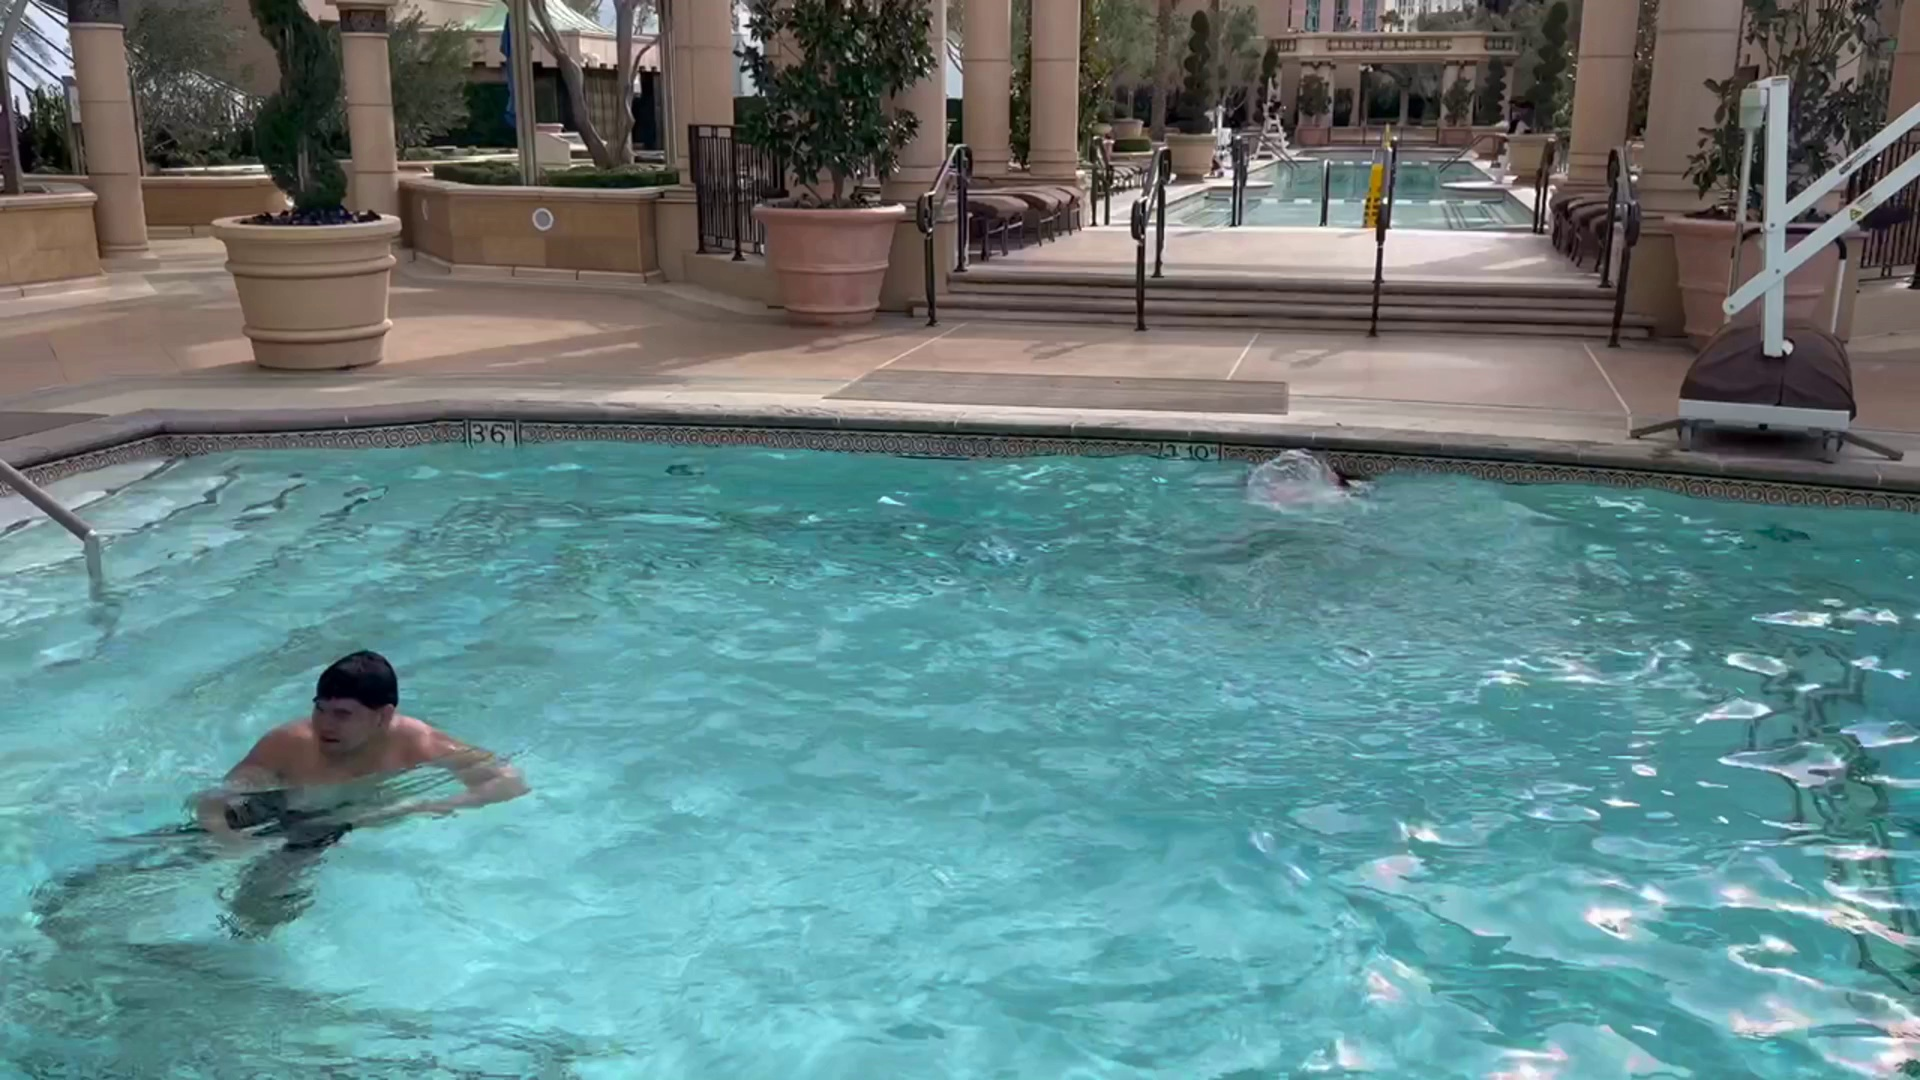danger: (1195, 415, 1416, 566)
